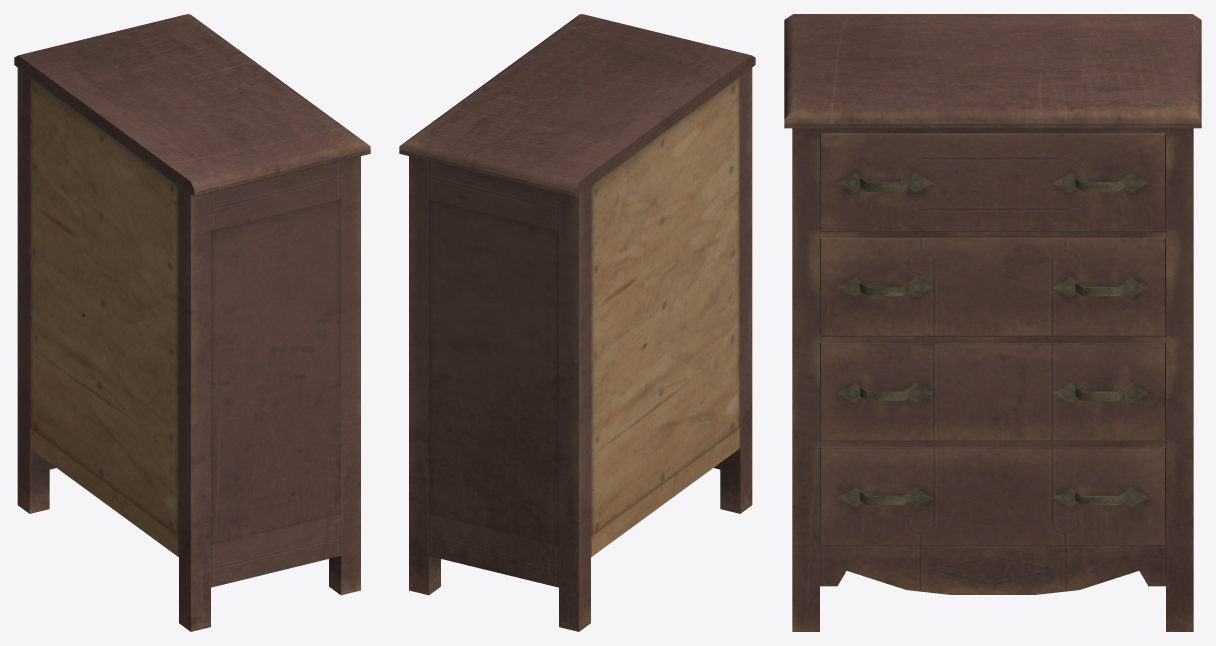
Rendered from Dresser.FBX.
3 renders of one model, left to right at view 1: azimuth 30°, elevation 25°; view 2: azimuth 150°, elevation 25°; view 3: azimuth 270°, elevation 25°, orthographic. The views are drawn at different scales.
Visible parts, largest first — view 1: Furniture_01_Dresser_Dresser02_Closed_CZER_ND_Smesh; view 2: Furniture_01_Dresser_Dresser02_Closed_CZER_ND_Smesh; view 3: Furniture_01_Dresser_Dresser02_Closed_CZER_ND_Smesh.
Boxes of the visible parts, <box> form: Furniture_01_Dresser_Dresser02_Closed_CZER_ND_Smesh: <box>14,14,370,631</box>; Furniture_01_Dresser_Dresser02_Closed_CZER_ND_Smesh: <box>399,14,755,631</box>; Furniture_01_Dresser_Dresser02_Closed_CZER_ND_Smesh: <box>784,14,1201,631</box>.
Bounding box in the file's own units: 0.3032 × 0.7308 × 0.5294.
